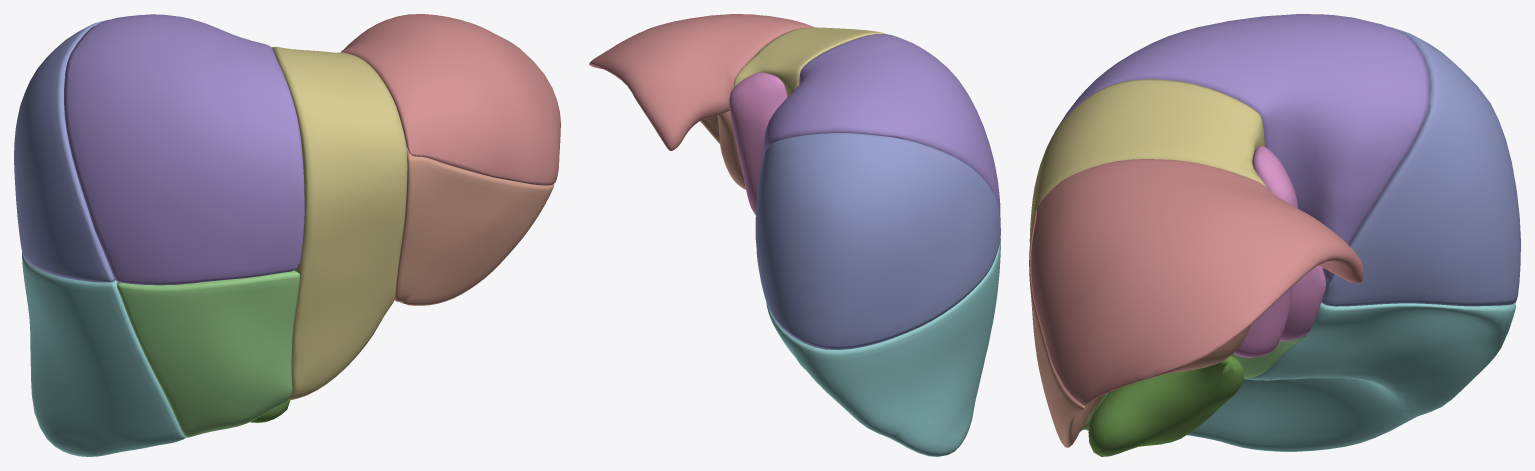
File: liver.glb
3 renders of one model, left to right at view 1: azimuth 30°, elevation 25°; view 2: azimuth 150°, elevation 25°; view 3: azimuth 270°, elevation 25°, orthographic. The views are drawn at different scales.
Parts seen in each view (by area): view 1: Posterior medial segment of liver (VIII), Left medial segment of liver (IV), Left posterior lateral segment of liver (II), Anterior medial segment of liver (V), Anterior lateral segment of liver (VI), Left anterior lateral segment of liver (III), Posterior lateral segment of liver (VII); view 2: Posterior lateral segment of liver (VII), Anterior lateral segment of liver (VI), Posterior medial segment of liver (VIII), Left posterior lateral segment of liver (II), Posterior segment of liver (I), Left medial segment of liver (IV), Left anterior lateral segment of liver (III); view 3: Left posterior lateral segment of liver (II), Posterior medial segment of liver (VIII), Posterior lateral segment of liver (VII), Anterior lateral segment of liver (VI), Left medial segment of liver (IV), Gallbladder, Posterior segment of liver (I), Left anterior lateral segment of liver (III), Anterior medial segment of liver (V).
Part boxes in pixels (bbox=[...]): Posterior medial segment of liver (VIII): bbox=[64, 14, 304, 285]; Left medial segment of liver (IV): bbox=[272, 46, 407, 400]; Left posterior lateral segment of liver (II): bbox=[341, 14, 560, 185]; Anterior medial segment of liver (V): bbox=[117, 270, 299, 437]; Anterior lateral segment of liver (VI): bbox=[22, 252, 185, 456]; Left anterior lateral segment of liver (III): bbox=[394, 147, 554, 305]; Posterior lateral segment of liver (VII): bbox=[14, 19, 115, 282]; Posterior lateral segment of liver (VII): bbox=[755, 132, 1000, 349]; Anterior lateral segment of liver (VI): bbox=[766, 239, 1000, 456]; Posterior medial segment of liver (VIII): bbox=[763, 34, 1000, 221]; Left posterior lateral segment of liver (II): bbox=[589, 14, 813, 150]; Posterior segment of liver (I): bbox=[729, 72, 787, 215]; Left medial segment of liver (IV): bbox=[734, 27, 886, 96]; Left anterior lateral segment of liver (III): bbox=[700, 111, 745, 189]; Left posterior lateral segment of liver (II): bbox=[1030, 159, 1363, 405]; Posterior medial segment of liver (VIII): bbox=[1054, 14, 1429, 281]; Posterior lateral segment of liver (VII): bbox=[1321, 26, 1520, 306]; Anterior lateral segment of liver (VI): bbox=[1187, 303, 1515, 451]; Left medial segment of liver (IV): bbox=[1029, 79, 1267, 431]; Gallbladder: bbox=[1088, 356, 1244, 456]; Posterior segment of liver (I): bbox=[1234, 146, 1326, 357]; Left anterior lateral segment of liver (III): bbox=[1029, 210, 1250, 447]; Anterior medial segment of liver (V): bbox=[1083, 334, 1306, 430].
Size of the model in its own units: 0.2054 by 0.1653 by 0.1523.
